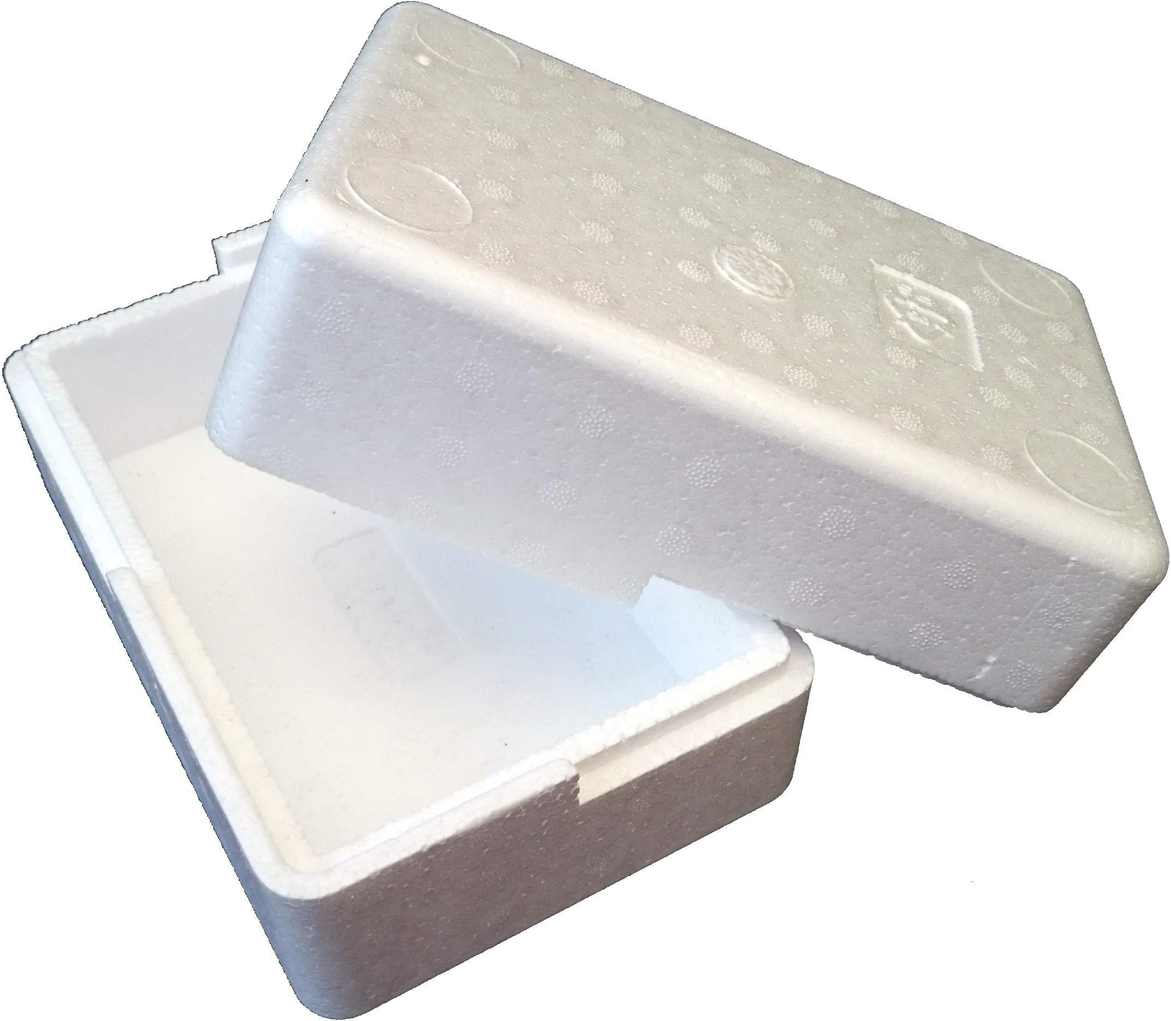Boxes: (6, 3, 1167, 1017)
